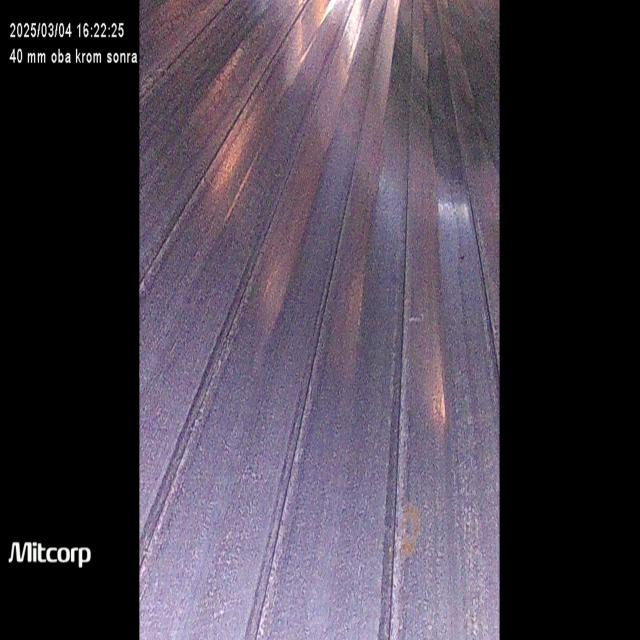hata_4.2: (395, 494, 427, 574)
